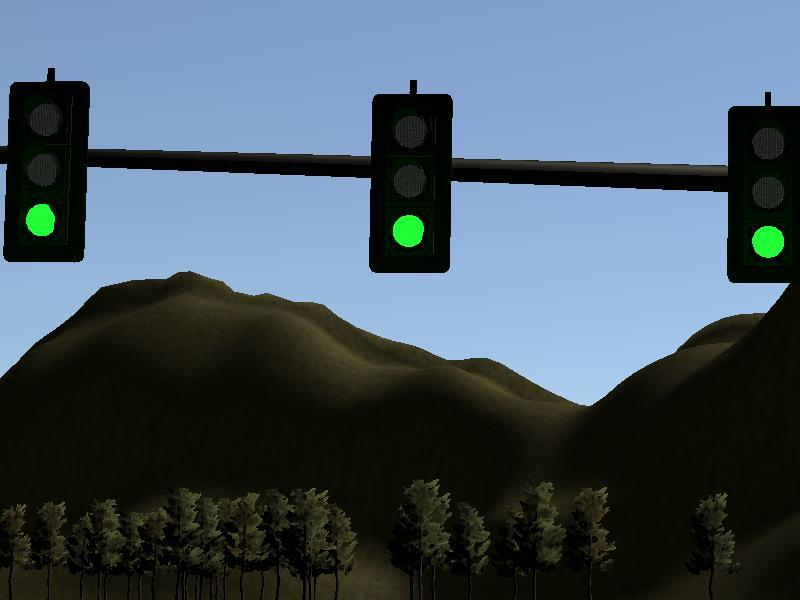Green: (372, 96, 446, 271), (9, 82, 81, 256), (728, 109, 795, 278)
